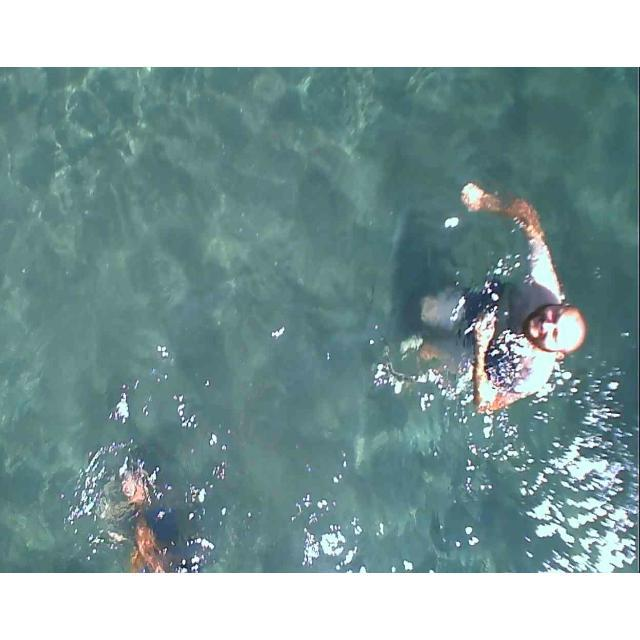human: (447, 168, 586, 418)
